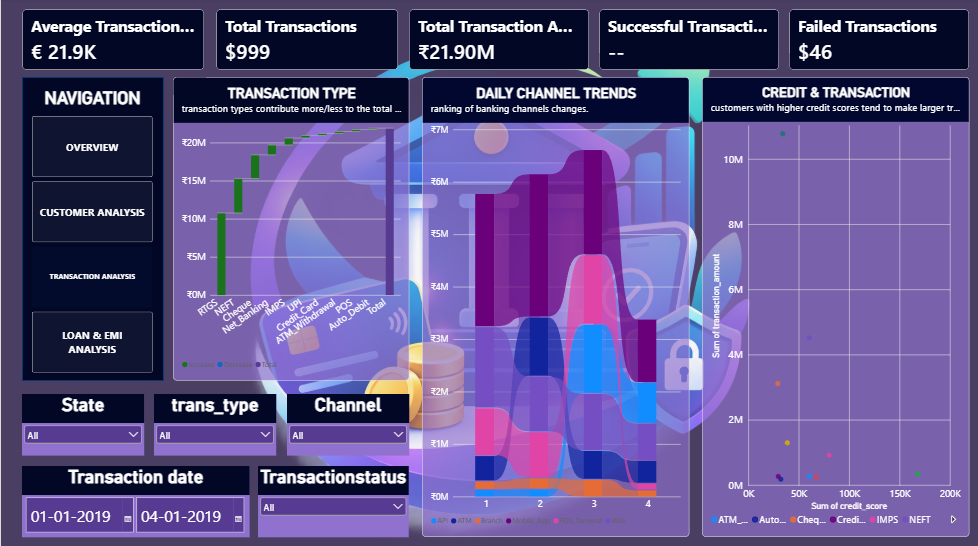

This screenshot's page, from the dashboard's own definition file:
{"tool":"powerbi","page":{"name":"TRANSACTION ANALYSIS","canvas":[1920,1080],"ordinal":2},"visuals":[{"type":"shape","box":[41,155.5,278.6,596.2],"z":0,"group":"g1"},{"type":"group","id":"g1","title":"Group 1","box":[41,155.5,278.6,596.2],"z":0},{"type":"cardVisual","fields":{"Data":["Sheet1.Average Transaction Amount"]},"box":[41,21.6,358.6,121],"z":1000},{"type":"cardVisual","fields":{"Data":["Sheet1.Total Transactions"]},"box":[421.2,21.6,358.6,121],"z":2000},{"type":"cardVisual","fields":{"Data":["Sheet1.Total Transaction Amount"]},"box":[801.4,21.6,354.2,121],"z":3000},{"type":"cardVisual","fields":{"Data":["Sheet1.Failed Transactions"]},"box":[1546.6,21.6,354.2,121],"z":4000},{"type":"cardVisual","fields":{"Data":["Sheet1.Successful Transactions"]},"box":[1175,21.6,354.2,121],"z":5000},{"type":"waterfallChart","title":"TRANSACTION TYPE","fields":{"Category":["Sheet1.transaction_type"],"Y":["Sheet1.Total Transaction Amount"]},"box":[337,155.5,464.4,596.2],"z":6000},{"type":"scatterChart","title":"CREDIT & TRANSACTION","fields":{"Series":["Sheet1.transaction_type"],"X":["Sum(Sheet1.credit_score)"],"Y":["Sum(Sheet1.transaction_amount)"]},"box":[1375.9,155.5,524.9,902.9],"z":8000},{"type":"ribbonChart","title":"DAILY CHANNEL TRENDS","fields":{"Category":["Sheet1.transaction_date.Variation.Date Hierarchy.Day"],"Series":["Sheet1.channel"],"Y":["Sheet1.Total Transaction Amount"]},"box":[827.3,155.5,524.9,902.9],"z":9000},{"type":"slicer","title":"Transaction date","fields":{"Values":["Sheet1.transaction_date"]},"box":[41,918,447.1,140.4],"z":10000},{"type":"slicer","title":"State","fields":{"Values":["Sheet1.state"]},"box":[41,777.6,239.8,121],"z":11000},{"type":"slicer","title":"trans_type","fields":{"Values":["Sheet1.transaction_type"]},"box":[300.2,777.6,239.8,121],"z":12000},{"type":"slicer","title":"Transactionstatus","fields":{"Values":["Sheet1.transaction_status"]},"box":[505.4,918,295.9,140.4],"z":13000},{"type":"slicer","title":"Channel","fields":{"Values":["Sheet1.channel"]},"box":[561.6,777.6,239.8,121],"z":14000},{"type":"pageNavigator","title":"NAVIGATION","box":[60.4,177.3,237.6,559.3],"z":15500,"group":"g1"}]}

Visuals, with their boxes in screenshot pixels (x1, y1, x2, y2), scaled from the page's 1920x1080 canvas onto the 978x546 screenshot:
shape: BBox(21, 79, 163, 380)
"Group 1" group: BBox(21, 79, 163, 380)
cardVisual - Sheet1.Average Transaction Amount: BBox(21, 11, 204, 72)
cardVisual - Sheet1.Total Transactions: BBox(215, 11, 397, 72)
cardVisual - Sheet1.Total Transaction Amount: BBox(408, 11, 589, 72)
cardVisual - Sheet1.Failed Transactions: BBox(788, 11, 968, 72)
cardVisual - Sheet1.Successful Transactions: BBox(599, 11, 779, 72)
"TRANSACTION TYPE" waterfallChart: BBox(172, 79, 408, 380)
"CREDIT & TRANSACTION" scatterChart: BBox(701, 79, 968, 535)
"DAILY CHANNEL TRENDS" ribbonChart: BBox(421, 79, 689, 535)
"Transaction date" slicer: BBox(21, 464, 249, 535)
"State" slicer: BBox(21, 393, 143, 454)
"trans_type" slicer: BBox(153, 393, 275, 454)
"Transactionstatus" slicer: BBox(257, 464, 408, 535)
"Channel" slicer: BBox(286, 393, 408, 454)
"NAVIGATION" pageNavigator: BBox(31, 90, 152, 372)
